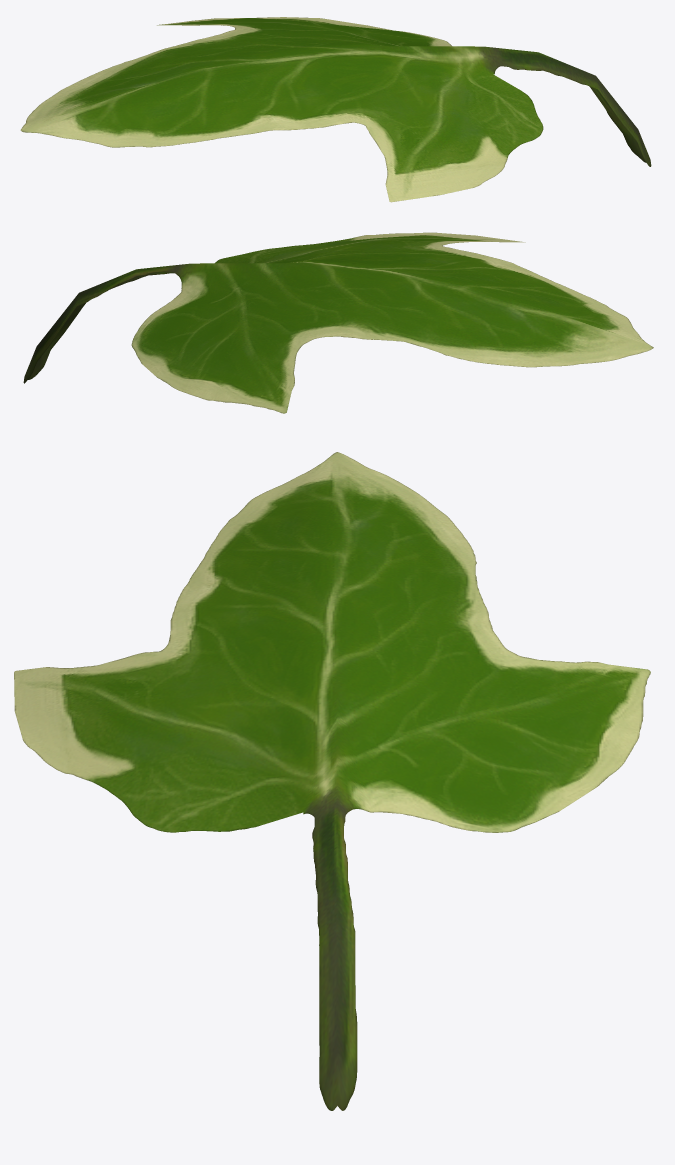
3 views of the same model, one above another, from view 1: azimuth 30°, elevation 25°; view 2: azimuth 150°, elevation 25°; view 3: azimuth 270°, elevation 25° (orthographic). The views are drawn at different scales.
Visible parts, largest first — view 1: A2; view 2: A2; view 3: A2.
Part boxes in pixels (left/top/right/bottom): A2: left=20, top=17, right=651, bottom=202; A2: left=23, top=232, right=653, bottom=413; A2: left=14, top=452, right=650, bottom=1110.
Bounding box in the file's own units: 1.06 × 0.3548 × 0.688.
